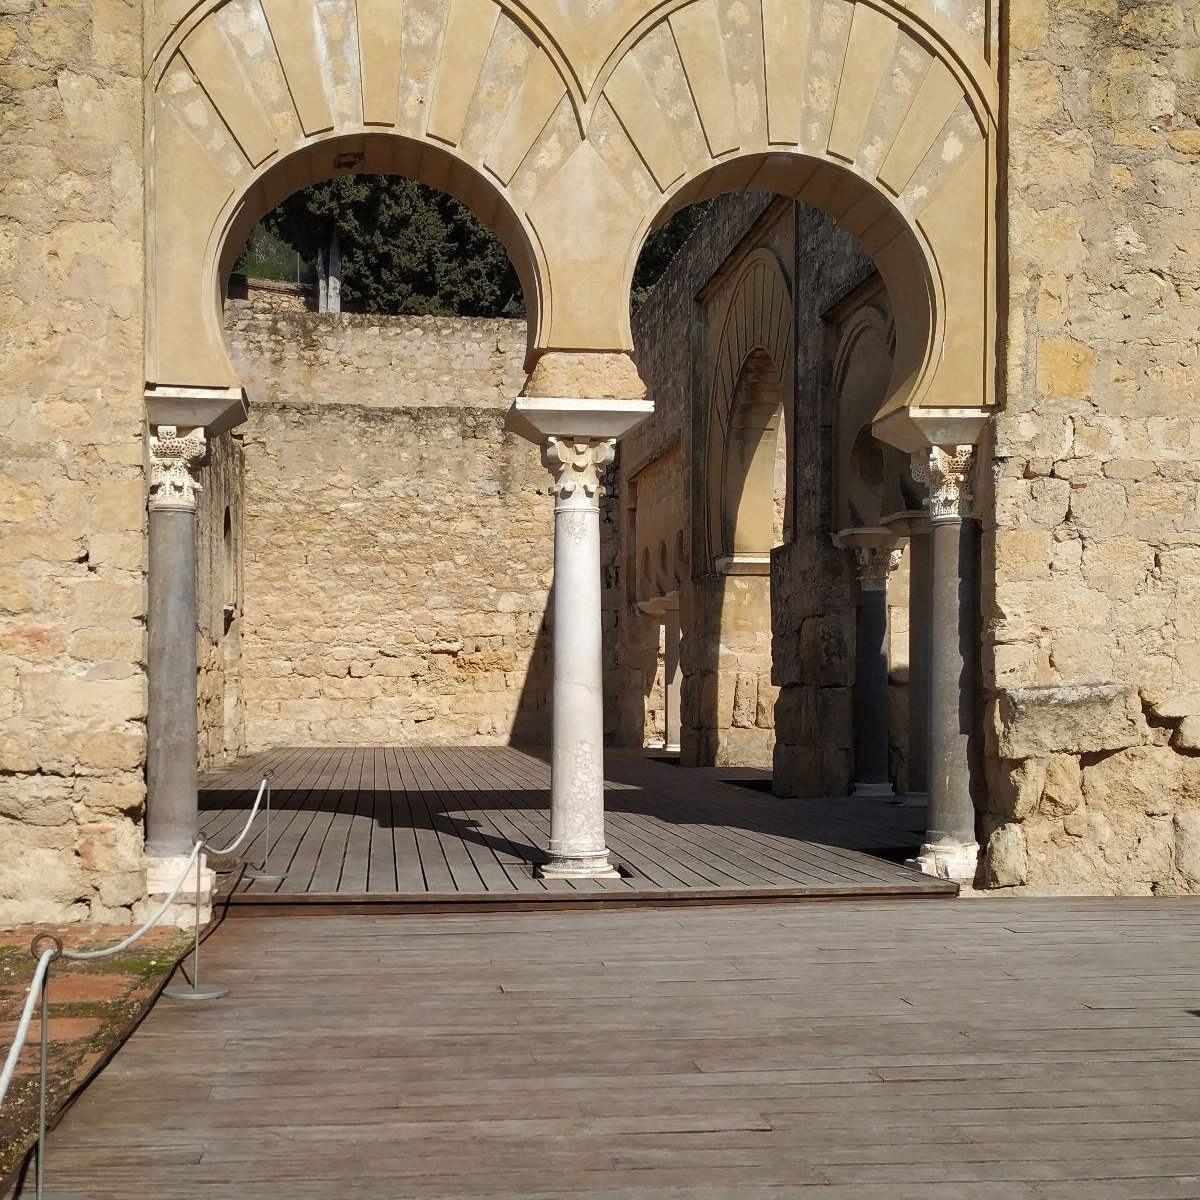arco-herradura: (173, 103, 573, 470), (580, 115, 963, 498)
